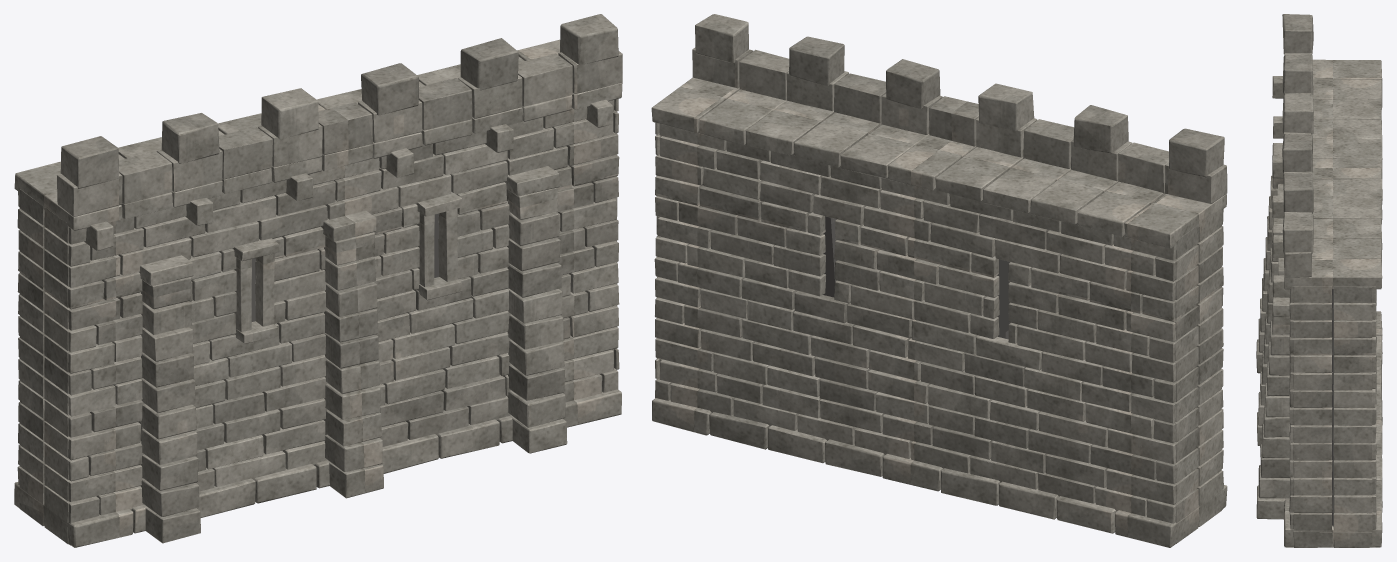
File: wall_straight-LOD2.glb
3 views of the same model, side by side, from view 1: azimuth 30°, elevation 25°; view 2: azimuth 150°, elevation 25°; view 3: azimuth 270°, elevation 25° (orthographic). The views are drawn at different scales.
Visible parts, largest first — view 1: Bonded ashlar course.001, Bonded ashlar course.005, Bonded ashlar course, Bonded ashlar course.015, Bonded ashlar course.017, Walkway dressed coping, Bonded ashlar course.003; view 2: Bonded ashlar course, Bonded ashlar course.001, Bonded ashlar course.015, Bonded ashlar course.005, Walkway dressed coping, Bonded ashlar course.017, Bonded ashlar course.003, Masonry recessed structural backing; view 3: Walkway dressed coping, Bonded ashlar course.001, Bonded ashlar course.005, Bonded ashlar course.017, Bonded ashlar course, Bonded ashlar course.015, Bonded ashlar course.003, Masonry recessed structural backing.
Part boxes in pixels (<box>): Bonded ashlar course.001: <box>18,88,621,517</box>; Bonded ashlar course.005: <box>18,51,622,543</box>; Bonded ashlar course: <box>14,53,618,547</box>; Bonded ashlar course.015: <box>17,75,618,533</box>; Bonded ashlar course.017: <box>17,38,619,516</box>; Walkway dressed coping: <box>14,39,622,343</box>; Bonded ashlar course.003: <box>18,14,618,483</box>; Bonded ashlar course: <box>655,49,1227,547</box>; Bonded ashlar course.001: <box>652,83,1227,544</box>; Bonded ashlar course.015: <box>655,71,1223,533</box>; Bonded ashlar course.005: <box>655,47,1224,543</box>; Walkway dressed coping: <box>651,77,1226,248</box>; Bonded ashlar course.017: <box>655,36,1223,503</box>; Bonded ashlar course.003: <box>654,14,1221,503</box>; Masonry recessed structural backing: <box>702,184,1010,339</box>; Walkway dressed coping: <box>1272,59,1382,316</box>; Bonded ashlar course.001: <box>1258,53,1382,547</box>; Bonded ashlar course.005: <box>1256,14,1382,547</box>; Bonded ashlar course.017: <box>1258,134,1376,547</box>; Bonded ashlar course: <box>1257,93,1382,512</box>; Bonded ashlar course.015: <box>1256,132,1382,519</box>; Bonded ashlar course.003: <box>1260,175,1376,512</box>; Masonry recessed structural backing: <box>1332,289,1333,526</box>.
Bounding box in the file's own units: 8 × 5.44 × 1.95.
Materials: 8 (7 with a texture image).
